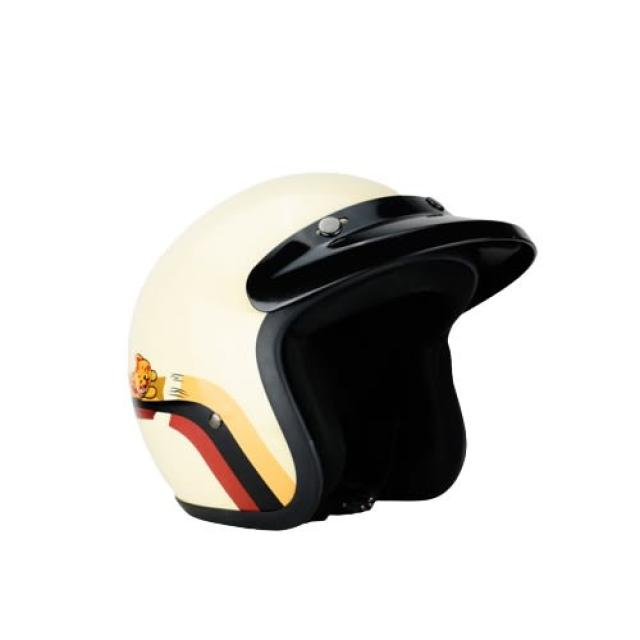Helm: (106, 155, 534, 538)
